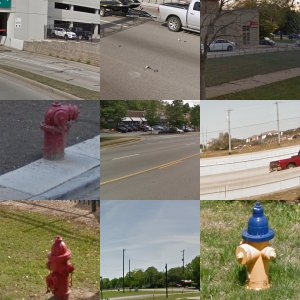公車: (207, 236, 255, 262)
汽車: (123, 181, 157, 202), (54, 171, 72, 186)
腳踏車: (51, 23, 99, 59), (252, 17, 282, 59), (257, 153, 289, 185)
行人穿越道: (1, 275, 45, 294)
